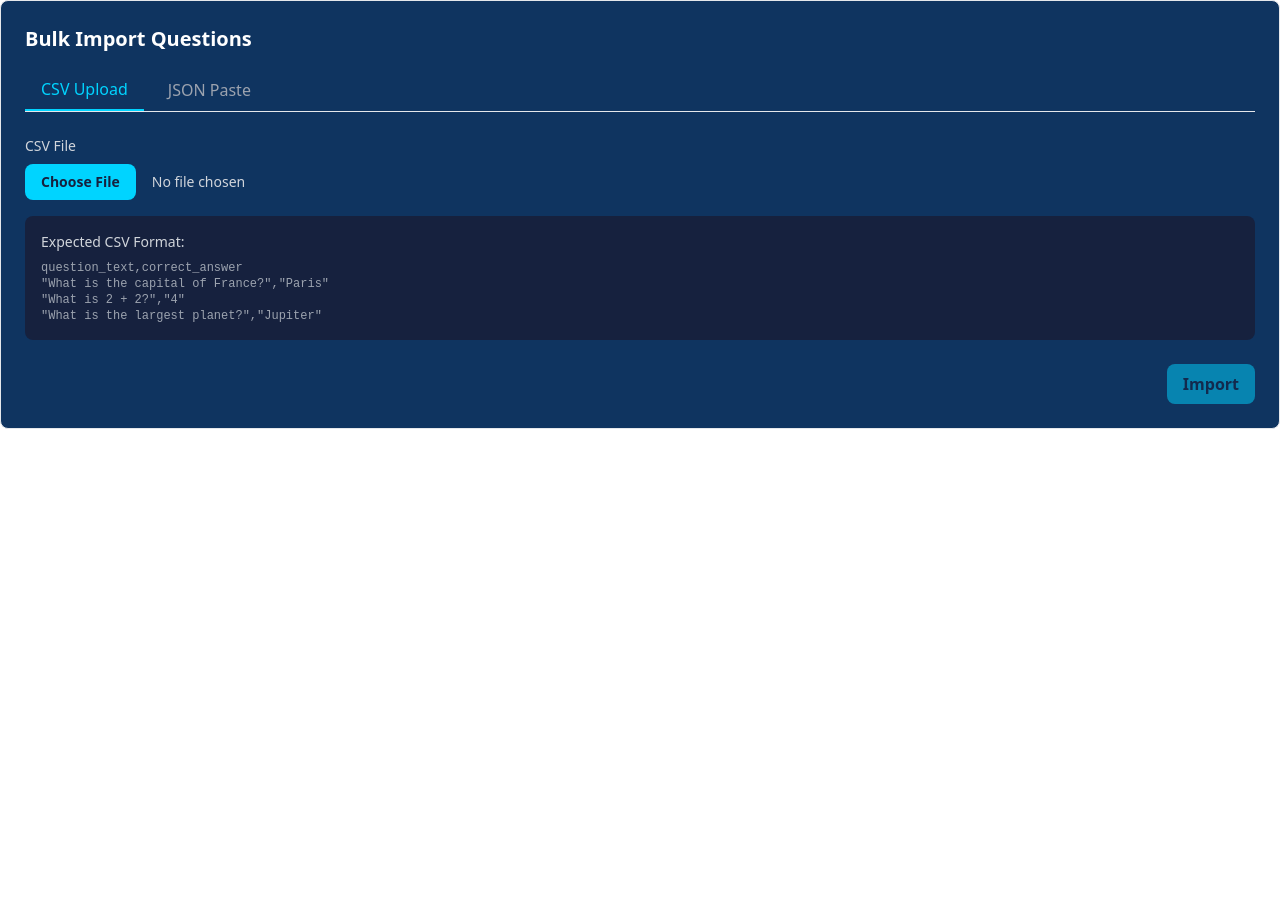
Test: BulkQuestionImport › should switch to JSON tab when clicked
This screenshot has width=1280, height=900.
Click the button "JSON Paste". click: (209, 90)
box: [152,69,267,111]
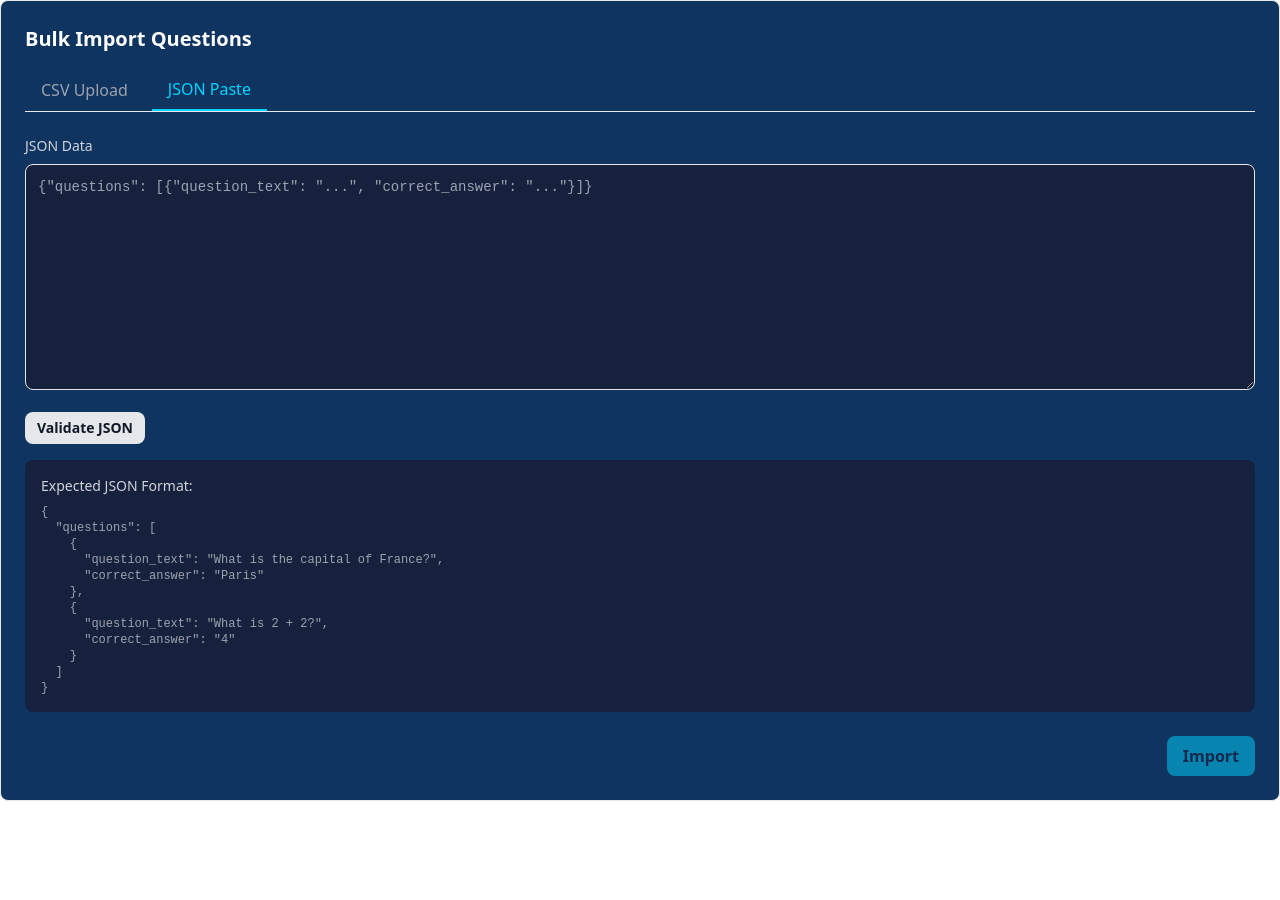
Result: the text box with placeholder "questions" is shown at [25,164,1255,390]
